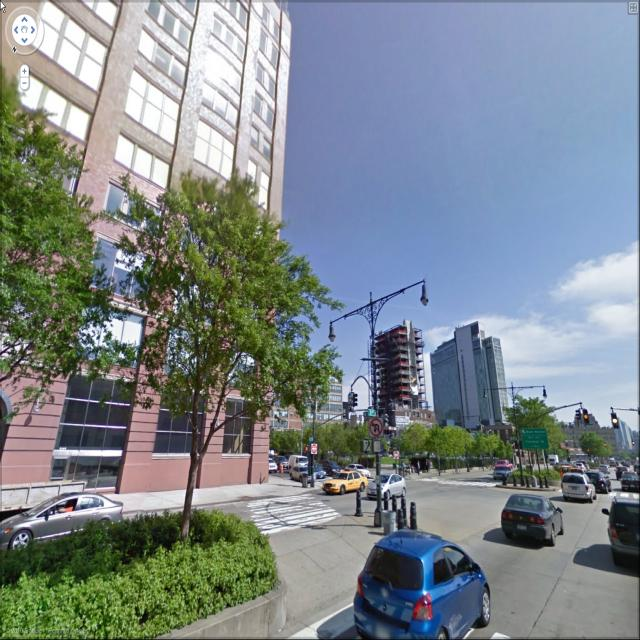b_1: (424, 304, 512, 434), (372, 317, 428, 414), (560, 404, 610, 456), (609, 410, 640, 455)
b_2: (6, 6, 286, 474), (278, 352, 360, 445)
